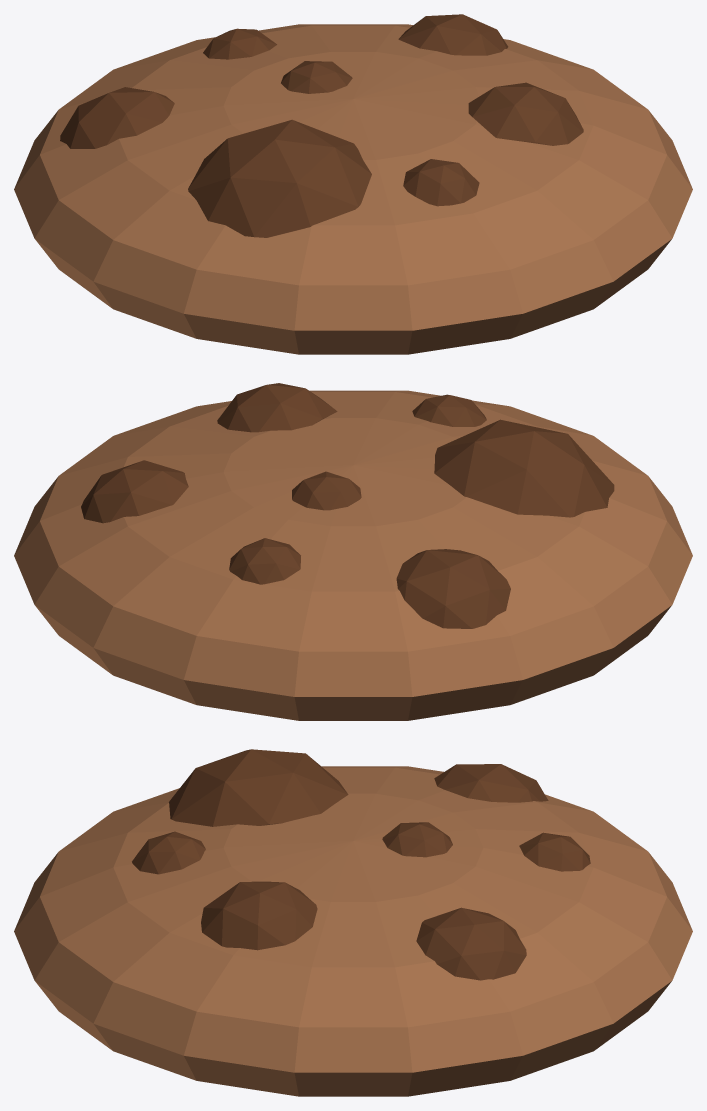
Rendered from Cookie.glb.
The picture shows the model from 3 angles, top to bottom: view 1: azimuth 30°, elevation 25°; view 2: azimuth 150°, elevation 25°; view 3: azimuth 270°, elevation 25°; orthographic projection.
Visible parts, largest first — view 1: Dough, Chip.003, Chip, Chip.004, Chip.001, Chip.005, Chip.006, Chip.002; view 2: Dough, Chip.003, Chip.004, Chip.001, Chip, Chip.002, Chip.006, Chip.005; view 3: Dough, Chip.003, Chip, Chip.001, Chip.004, Chip.005, Chip.002, Chip.006.
Boxes of the visible parts, x1,y1,x2,y2 form: Dough: [14, 24, 692, 354]; Chip.003: [188, 119, 371, 237]; Chip: [468, 82, 583, 145]; Chip.004: [60, 87, 174, 148]; Chip.001: [398, 14, 508, 55]; Chip.005: [403, 159, 479, 206]; Chip.006: [281, 61, 352, 93]; Chip.002: [203, 28, 276, 59]; Dough: [14, 390, 692, 720]; Chip.003: [434, 419, 614, 517]; Chip.004: [396, 549, 510, 628]; Chip.001: [81, 460, 188, 523]; Chip: [217, 383, 337, 432]; Chip.002: [229, 538, 300, 584]; Chip.006: [292, 471, 361, 510]; Chip.005: [412, 394, 486, 426]; Dough: [14, 766, 692, 1096]; Chip.003: [169, 749, 348, 826]; Chip: [201, 881, 317, 950]; Chip.001: [416, 907, 526, 980]; Chip.004: [434, 764, 548, 802]; Chip.005: [132, 831, 205, 874]; Chip.002: [519, 832, 590, 871]; Chip.006: [382, 822, 452, 857].
Size of the model in its own units: 0.8377 by 0.2122 by 0.8506.
